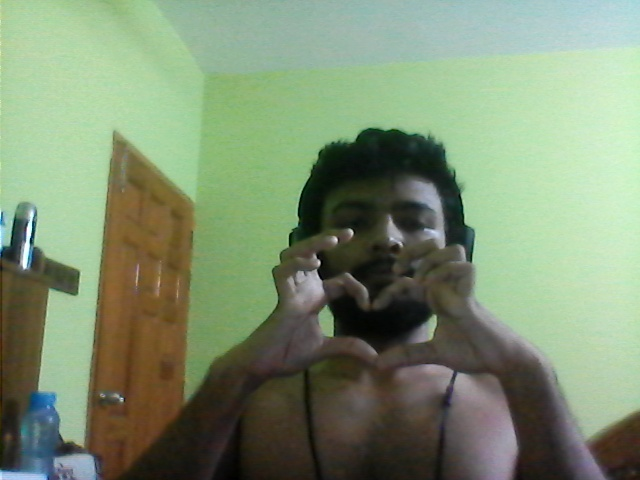Love: (221, 227, 551, 378)
